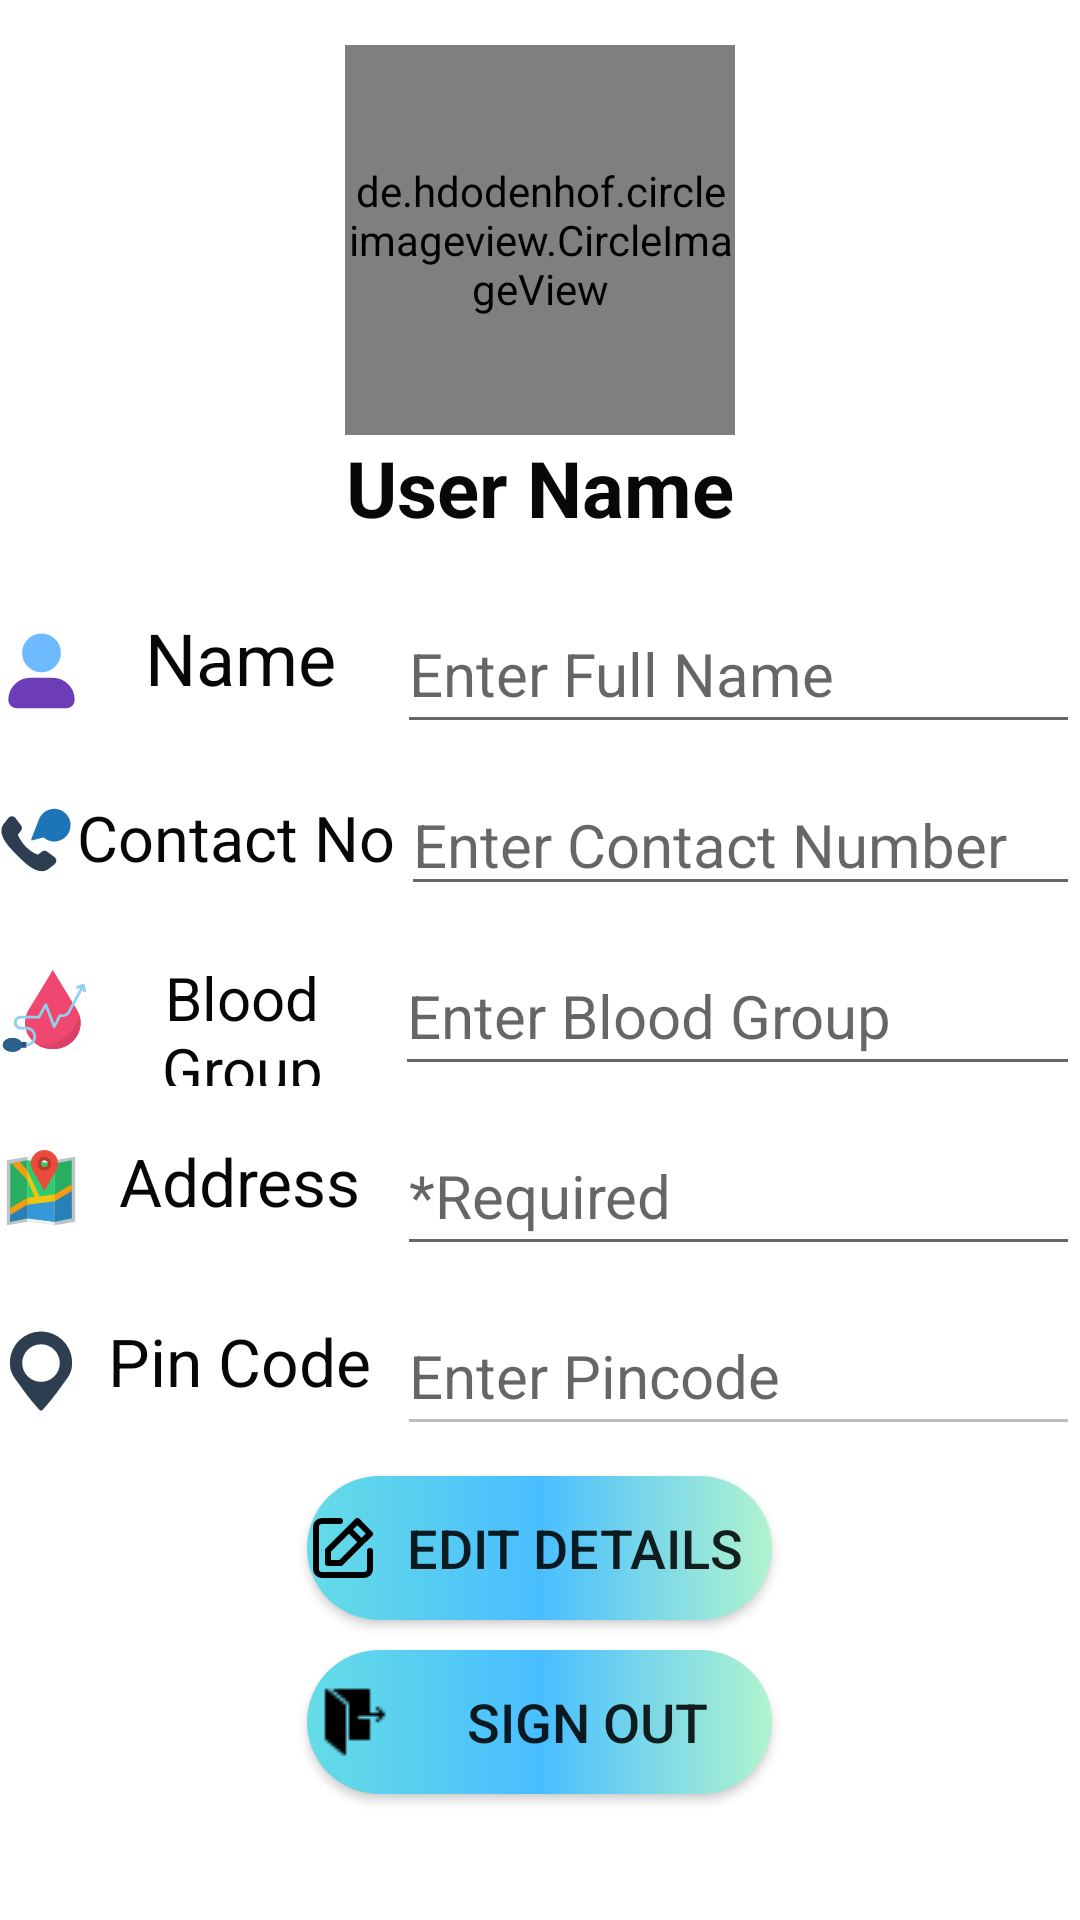

Screen size 1080 × 1920. Icon name, then its center in pixels as (x,y):
call: (36,840)
profile: (41,671)
